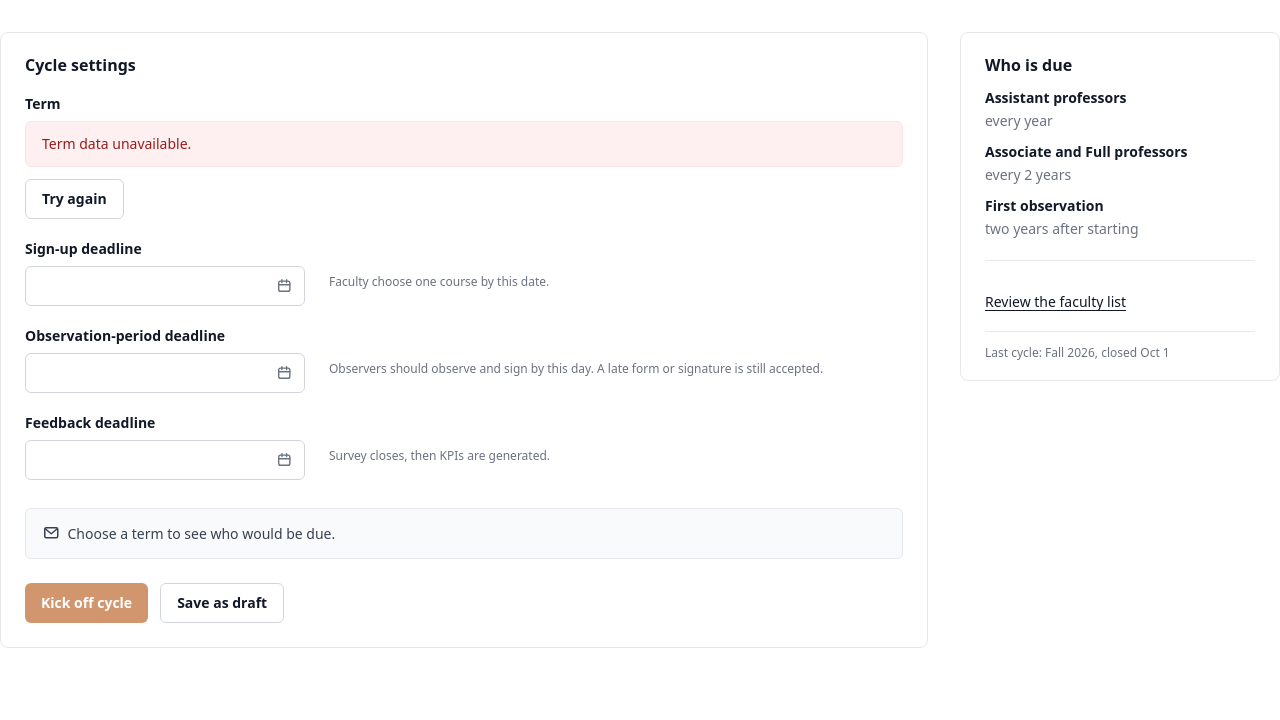
Cycle page: term list › shows an error note with Try again when the term list fails another way
Expected: the message reads "Term data unavailable.", [42,134,191,153]
Expected: the button "Kick off cycle" is disabled, [25,583,148,623]
Click the button "Try again" at (74, 199), box [25,179,124,219]
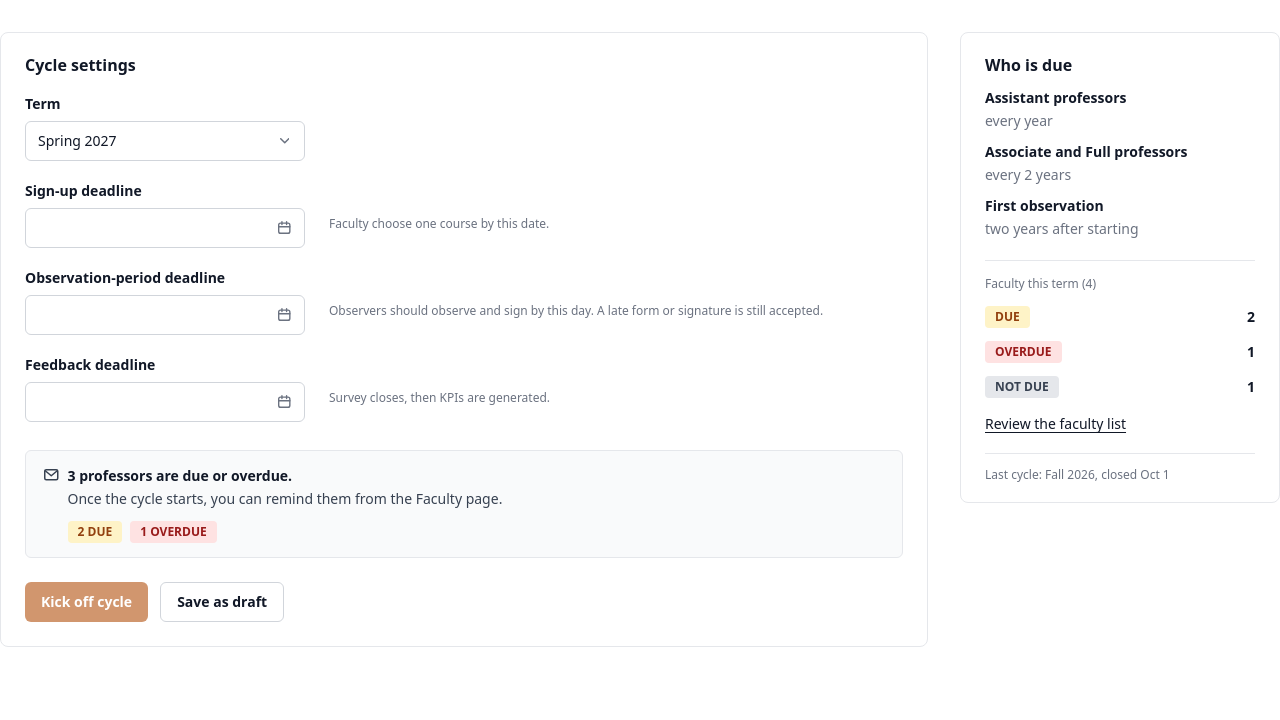
Expected: the dropdown labelled "Term" shows "Spring 2027", [25,121,305,161]
